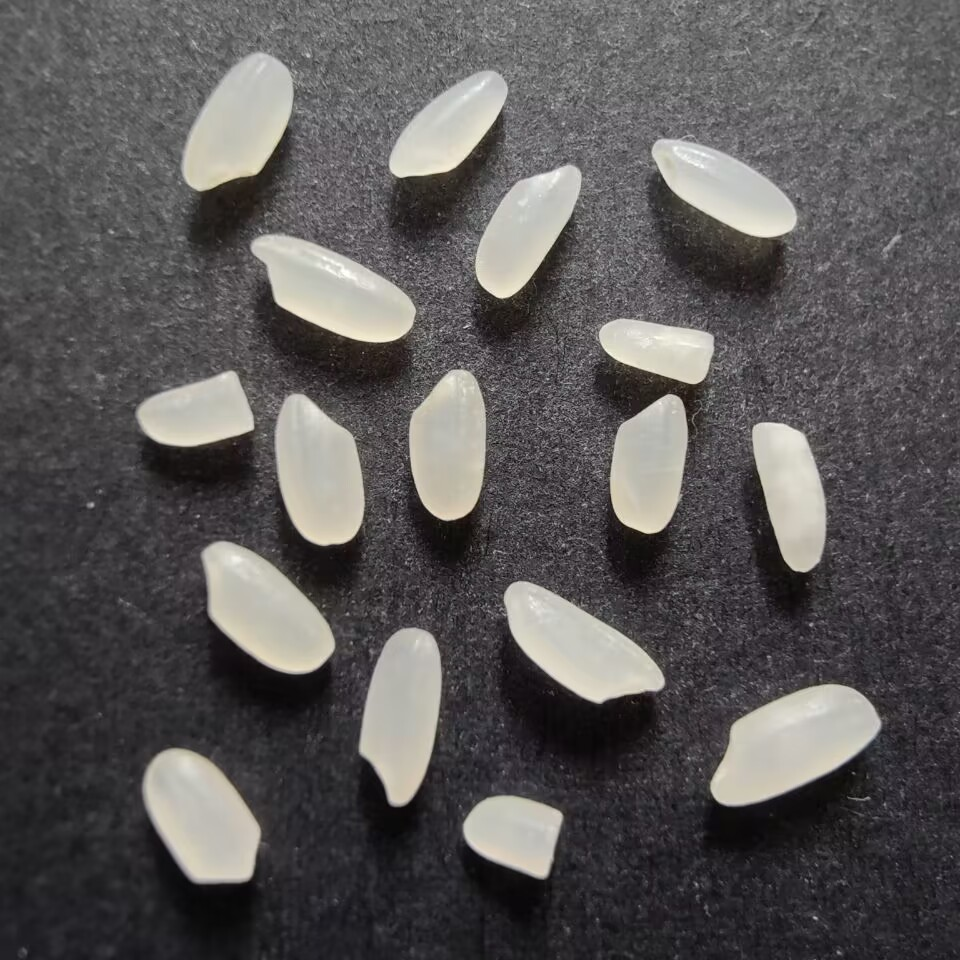broken: (136, 743, 266, 898), (134, 365, 258, 449), (460, 791, 567, 886), (597, 314, 723, 387)
rice: (706, 681, 887, 810), (500, 578, 670, 709), (244, 230, 418, 346), (194, 539, 338, 678), (177, 48, 298, 194), (354, 625, 444, 816), (270, 392, 372, 550), (473, 158, 585, 301), (648, 137, 801, 241), (383, 66, 512, 185), (406, 364, 491, 531), (747, 416, 829, 579), (606, 389, 689, 537)
